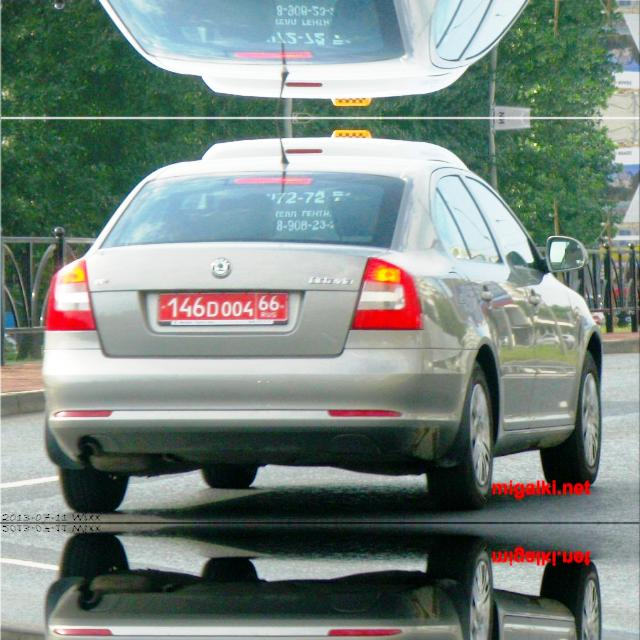diplomatic: (150, 288, 296, 328)
